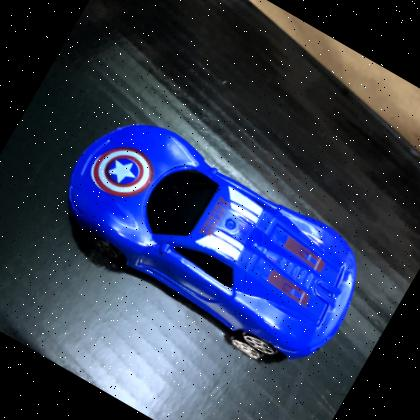Car: (66, 124, 356, 362)
